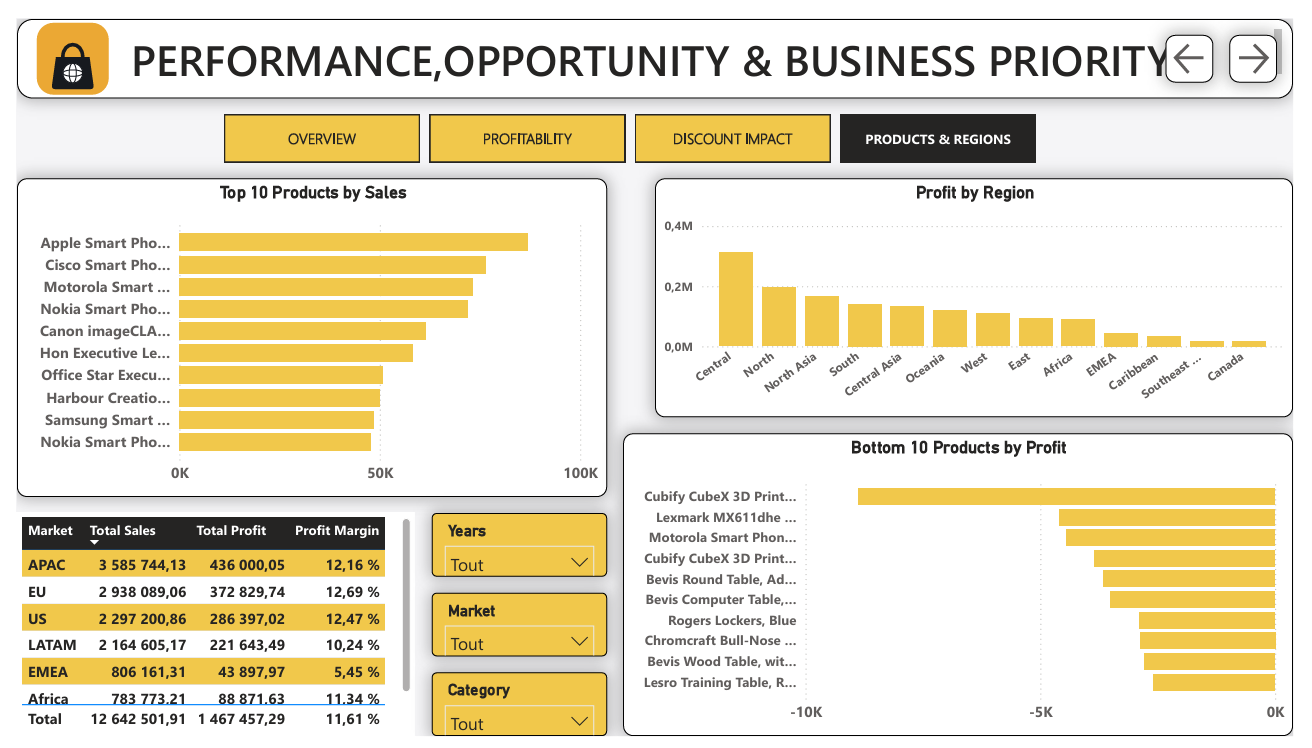

The dashboard page shown, as its layout file describes it:
{"tool":"powerbi","page":{"name":"PRODUCTS  & REGIONS","canvas":[1280,720],"ordinal":3},"visuals":[{"type":"textbox","box":[0,0,1280,80],"z":0},{"type":"clusteredBarChart","title":"Top 10 Products by Sales","fields":{"Category":["Global_Superstore2.Product Name"],"Y":["Global_Superstore2.Total Sales"]},"box":[0,160,592,320],"z":1000},{"type":"clusteredBarChart","title":"Bottom 10 Products by Profit","fields":{"Category":["Global_Superstore2.Product Name"],"Y":["Global_Superstore2.Total Profit"]},"box":[608,416,672,304],"z":2000},{"type":"clusteredColumnChart","title":"Profit by Region","fields":{"Category":["Global_Superstore2.Region"],"Y":["Global_Superstore2.Total Profit"]},"box":[640,160,640,240],"z":3000},{"type":"tableEx","fields":{"Values":["Global_Superstore2.Market","Global_Superstore2.Total Sales","Global_Superstore2.Total Profit","Global_Superstore2.Profit Margin"]},"box":[0,496,400,224],"z":4000},{"type":"pageNavigator","box":[208,96,816,48],"z":5000},{"type":"slicer","fields":{"Values":["Global_Superstore2.Order Date.Variation.Hiérarchie de dates.Année"]},"box":[416,496,176,64],"z":6000},{"type":"slicer","fields":{"Values":["Global_Superstore2.Category"]},"box":[416,656,176,64],"z":7000},{"type":"slicer","fields":{"Values":["Global_Superstore2.Market"]},"box":[416,576,176,64],"z":8000},{"type":"image","box":[0,0,112,80],"z":9000},{"type":"actionButton","box":[1216,16,48,48],"z":9001},{"type":"actionButton","box":[1152,16,48,48],"z":9002}]}

Visuals, with their boxes in screenshot pixels (x1, y1, x2, y2), scaled from the page's 1280x720 canvas onto the 1312x748 screenshot:
textbox: 0/0/1311/83
"Top 10 Products by Sales" clusteredBarChart: 0/166/607/499
"Bottom 10 Products by Profit" clusteredBarChart: 623/432/1311/747
"Profit by Region" clusteredColumnChart: 656/166/1311/416
tableEx - Global_Superstore2.Market x Global_Superstore2.Total Sales: 0/515/410/747
pageNavigator: 213/100/1050/150
slicer - Global_Superstore2.Order Date.Variation.Hiérarchie de dates.Année: 426/515/607/582
slicer - Global_Superstore2.Category: 426/682/607/747
slicer - Global_Superstore2.Market: 426/598/607/665
image: 0/0/115/83
actionButton: 1246/17/1296/66
actionButton: 1181/17/1230/66
